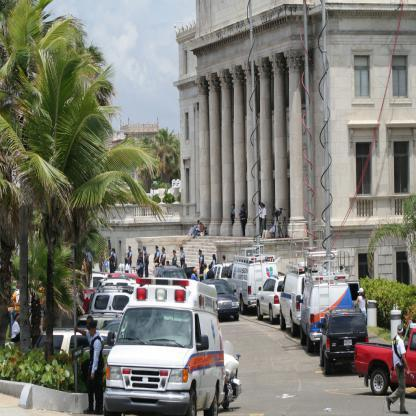Ambulance - v1 Ambulance last generate: (103, 278, 224, 416), (297, 270, 363, 354)
